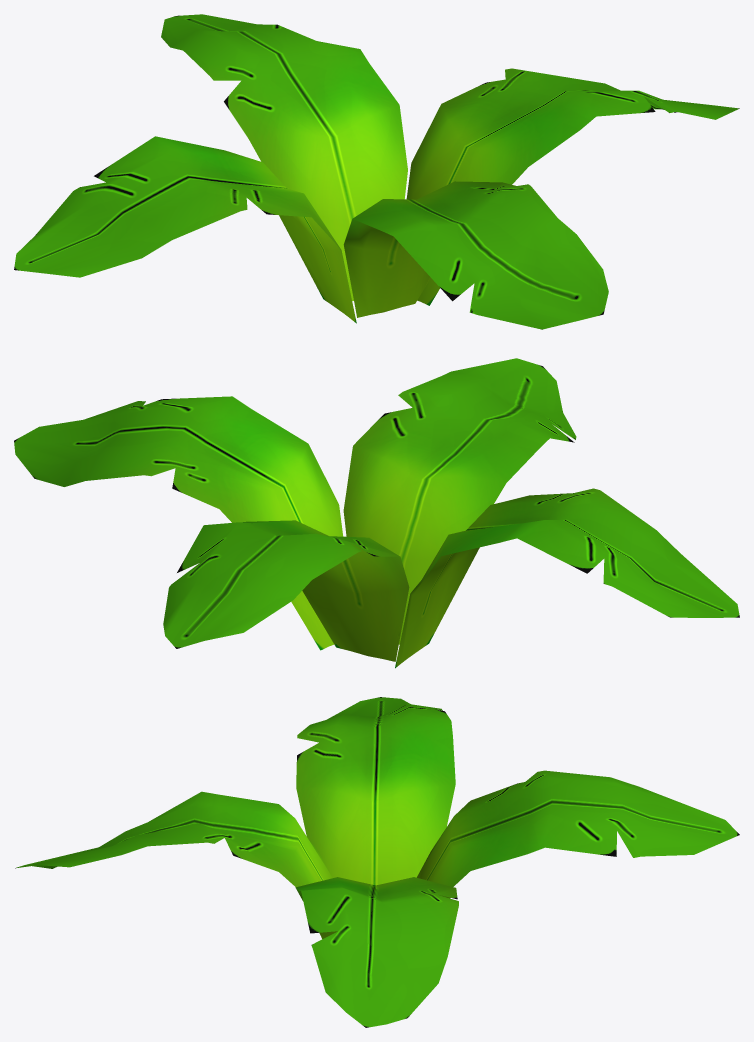
Rendered from Fern00.fbx.
The picture shows the model from 3 angles, top to bottom: view 1: azimuth 30°, elevation 25°; view 2: azimuth 150°, elevation 25°; view 3: azimuth 270°, elevation 25°; orthographic projection. The views are drawn at different scales.
Visible parts, largest first — view 1: Fern00_LOD0; view 2: Fern00_LOD0; view 3: Fern00_LOD0.
Part boxes in pixels (x1,y1,x2,y2): Fern00_LOD0: (14,14,739,329); Fern00_LOD0: (14,358,739,668); Fern00_LOD0: (15,697,739,1027).
Size of what is drawn, in the model's own units: 209 by 53.21 by 198.
1 material, 1 textured.
